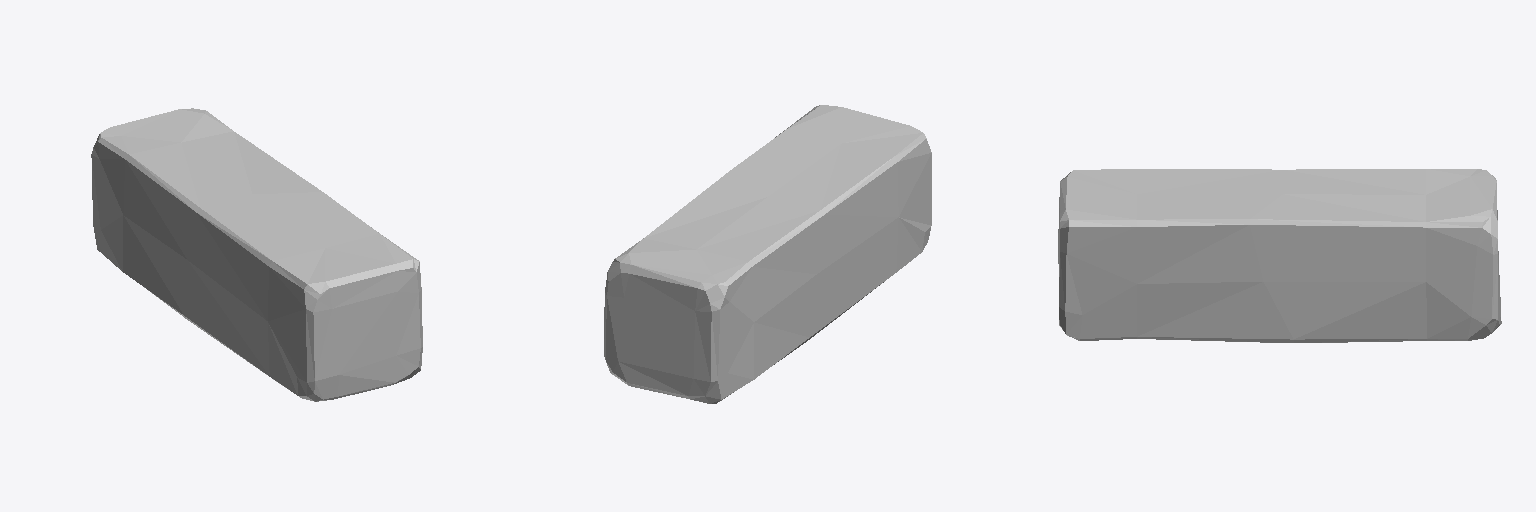
Rendered from Stone Pillar.obj.
3 views of the same model, side by side, from view 1: azimuth 30°, elevation 25°; view 2: azimuth 150°, elevation 25°; view 3: azimuth 270°, elevation 25° (orthographic).
Visible parts, largest first — view 1: Object.1; view 2: Object.1; view 3: Object.1.
Boxes of the visible parts, box(x1,y1,x2,y2) form: Object.1: box(91, 108, 422, 401); Object.1: box(604, 105, 931, 403); Object.1: box(1058, 169, 1501, 342).
Size of the model in its own units: 4.04 by 4.06 by 13.